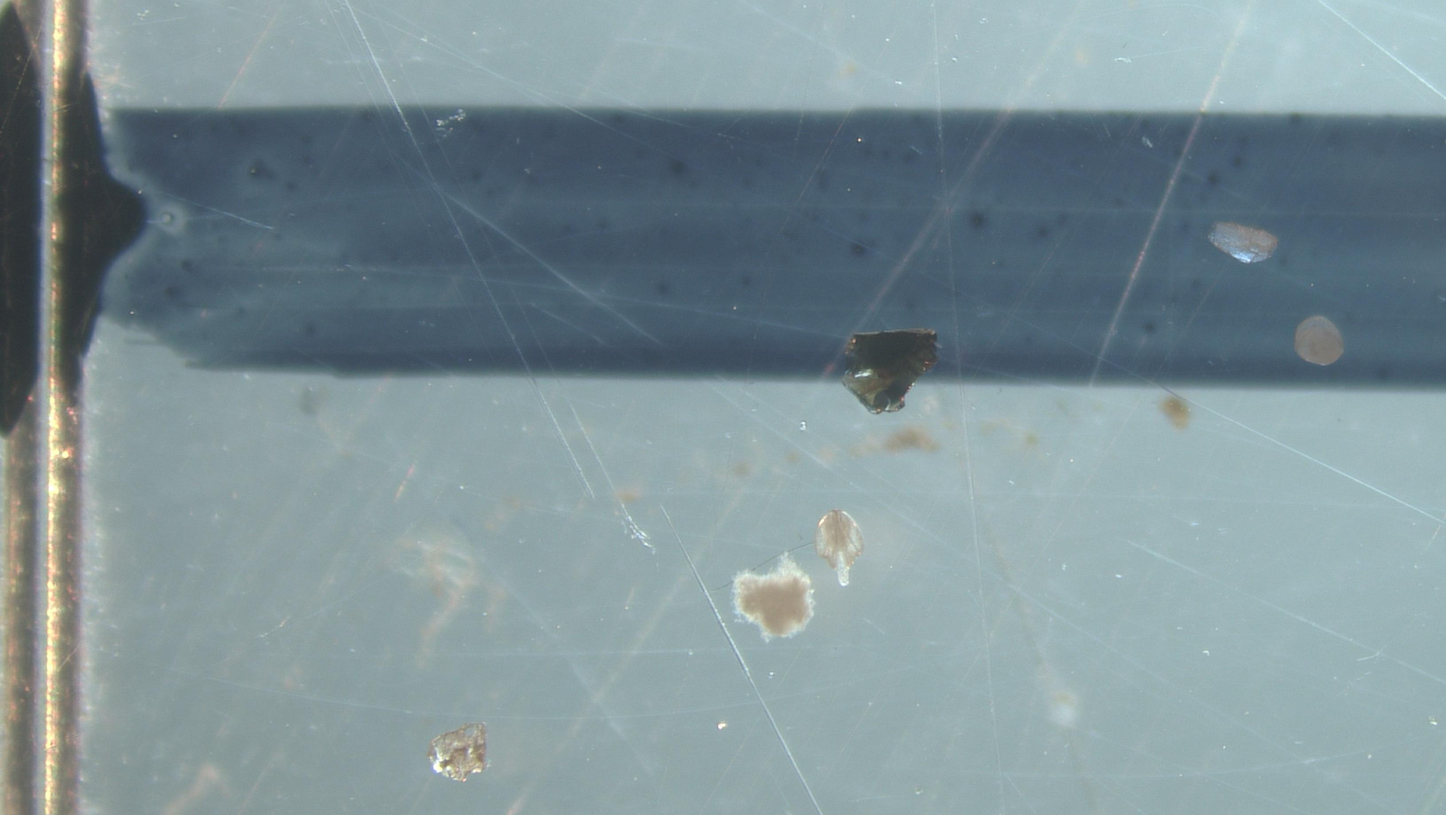live: (814, 510, 863, 587), (1294, 316, 1344, 366)
